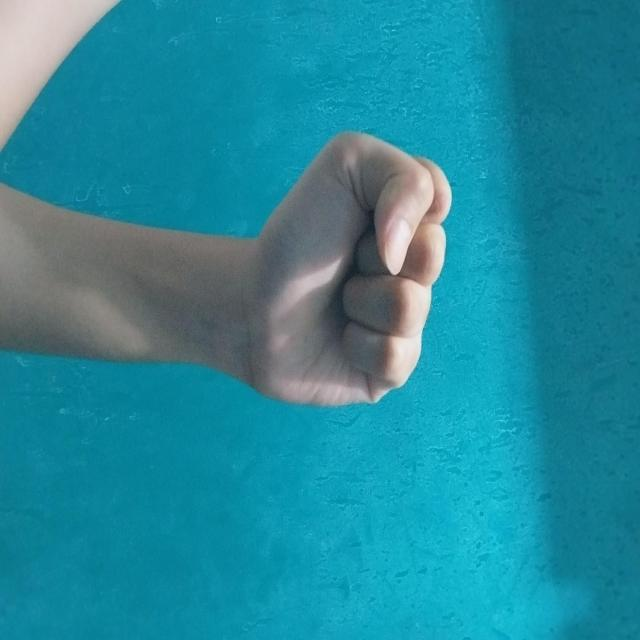S: (129, 190, 411, 391)
